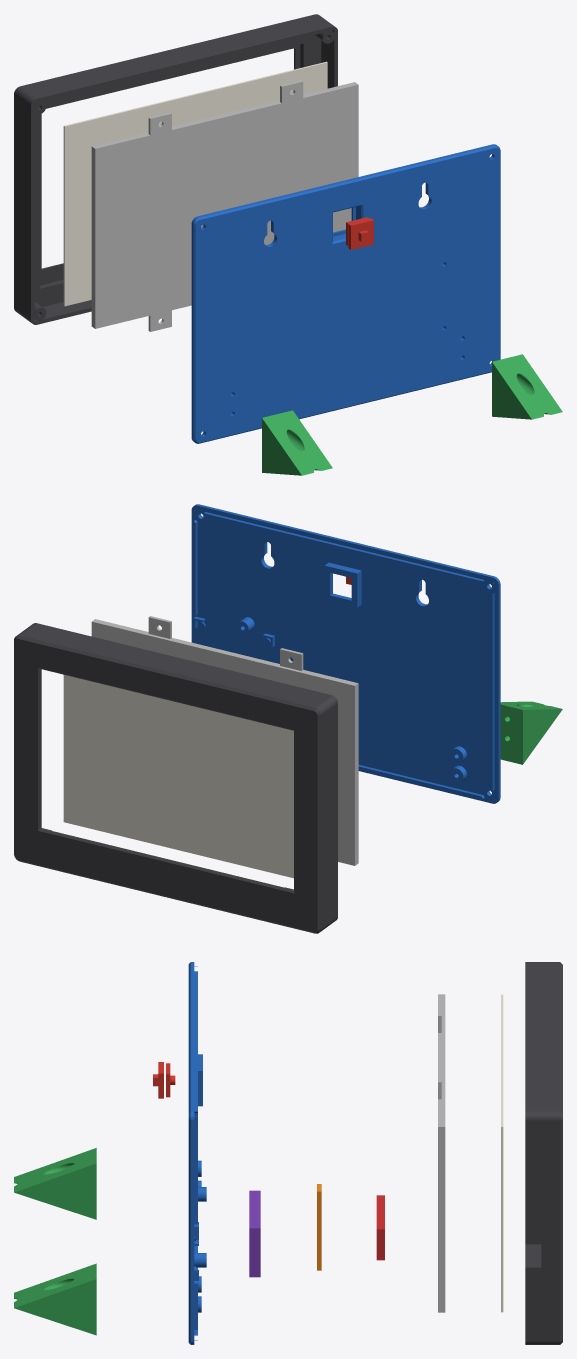
Rendered from assembly_exploded.obj.
3 views of the same model, one above another, from view 1: azimuth 30°, elevation 25°; view 2: azimuth 150°, elevation 25°; view 3: azimuth 270°, elevation 25° (orthographic). The views are drawn at different scales.
Visible parts, largest first — view 1: back_cover, backer, frame, ref_panel, foot_1, foot_2, ref_key_switch; view 2: back_cover, frame, ref_panel, backer, foot_1; view 3: frame, back_cover, foot_2, foot_1, backer, ref_esp32, ref_panel, ref_adapter, ref_key_switch.
Part boxes in pixels (box(x1,y1,x2,y2)): back_cover: box(191, 144, 500, 443); backer: box(91, 80, 358, 331); frame: box(14, 14, 337, 324); ref_panel: box(63, 61, 327, 306); foot_1: box(262, 410, 332, 475); foot_2: box(492, 354, 562, 419); ref_key_switch: box(346, 217, 373, 249); back_cover: box(191, 504, 500, 803); frame: box(14, 623, 337, 933); ref_panel: box(63, 675, 293, 878); backer: box(91, 616, 358, 865); foot_1: box(500, 701, 562, 764); frame: box(525, 962, 562, 1344); back_cover: box(188, 962, 206, 1344); foot_2: box(14, 1263, 96, 1335); foot_1: box(14, 1148, 96, 1219); backer: box(438, 994, 445, 1312); ref_esp32: box(249, 1190, 260, 1277); ref_panel: box(501, 994, 503, 1312); ref_adapter: box(376, 1195, 384, 1260); ref_key_switch: box(153, 1062, 175, 1098).
Bounding box in the file's own units: 199 × 140 × 298.
